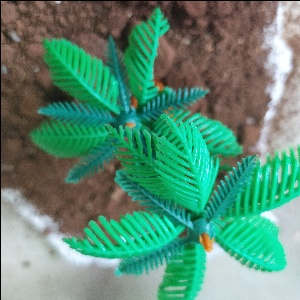plant: (32, 12, 300, 298)
